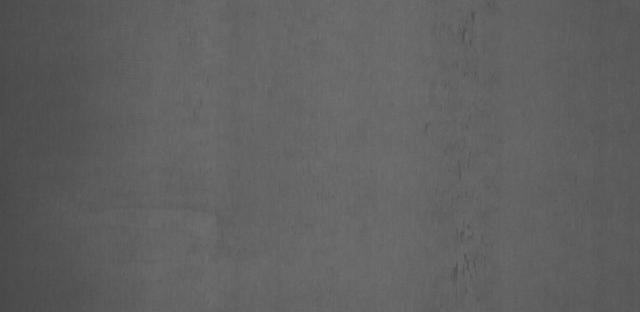silk_spot: (418, 14, 500, 280)
